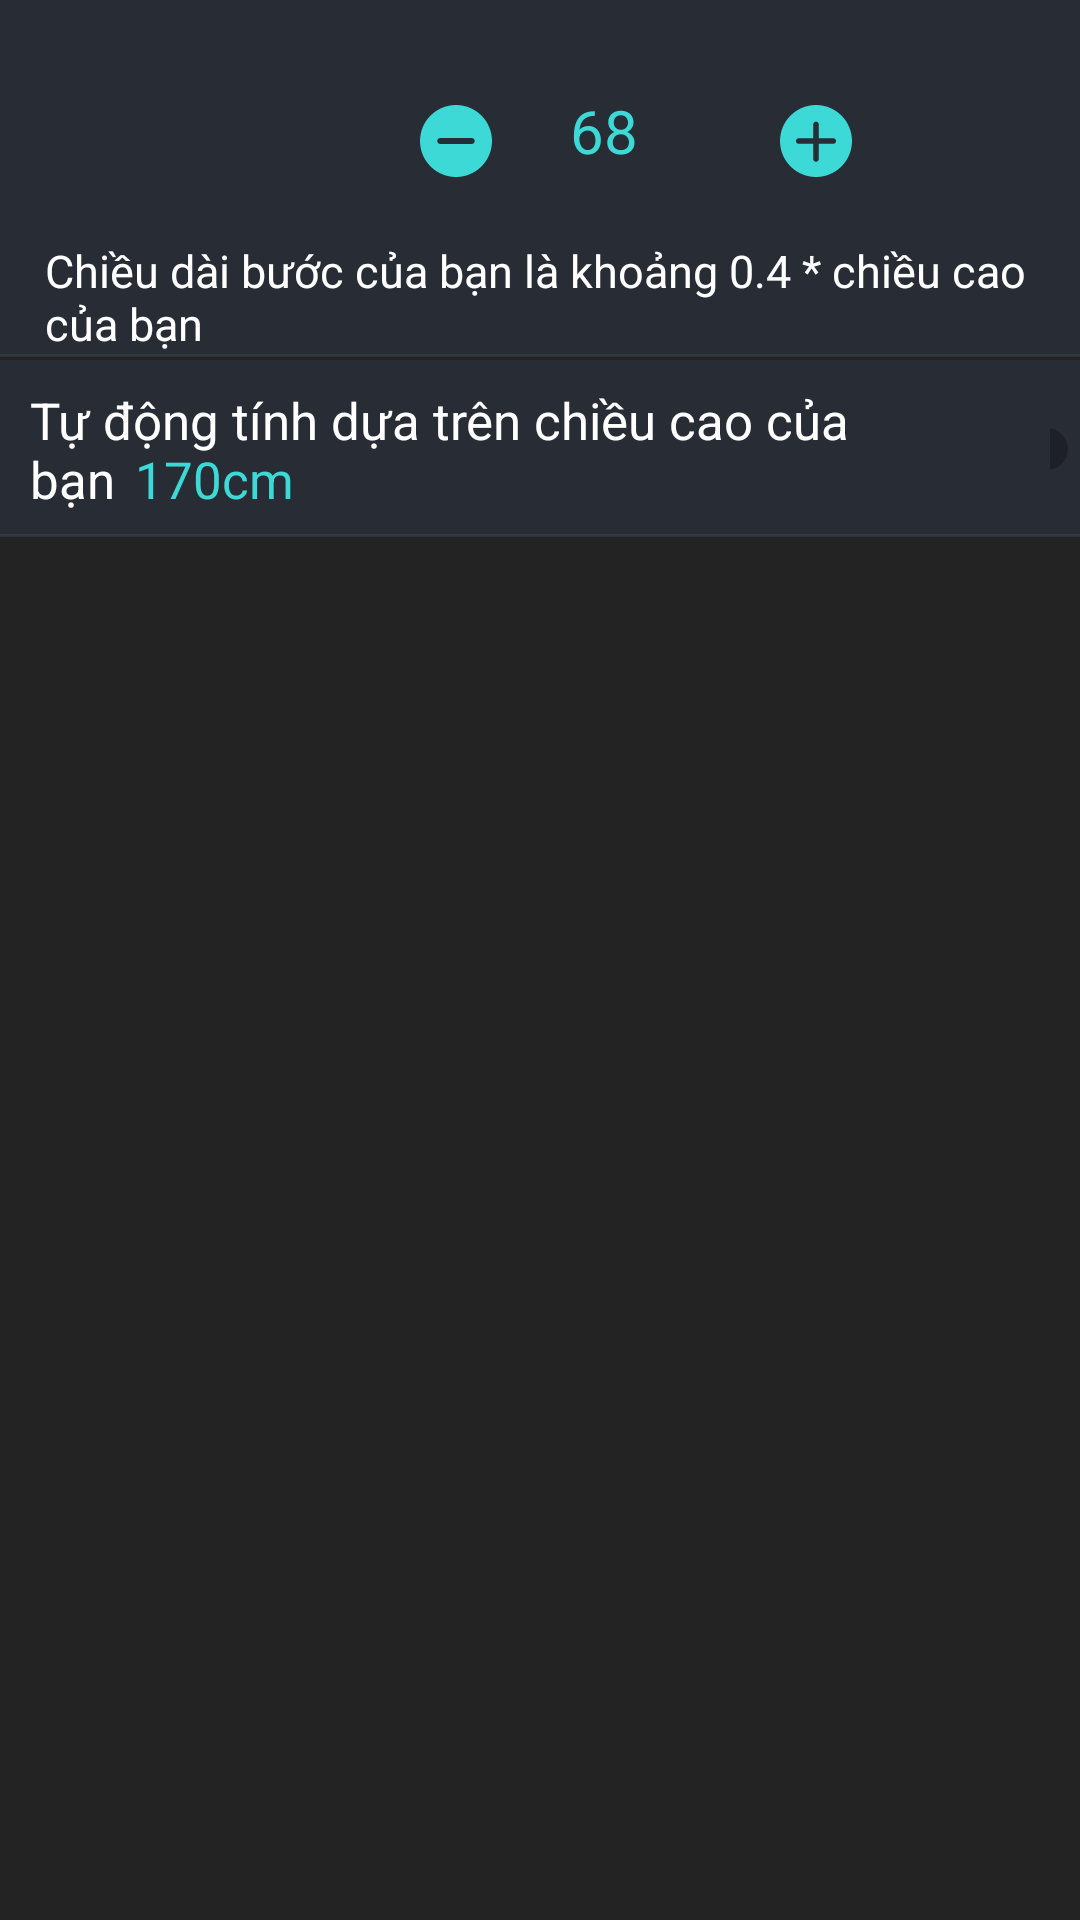

Locate icon controls on the screen. Image size 1080*1920, boxes as (x1, y1, x2, y2).
minus: (420, 105, 492, 177)
plus: (780, 105, 852, 177)
